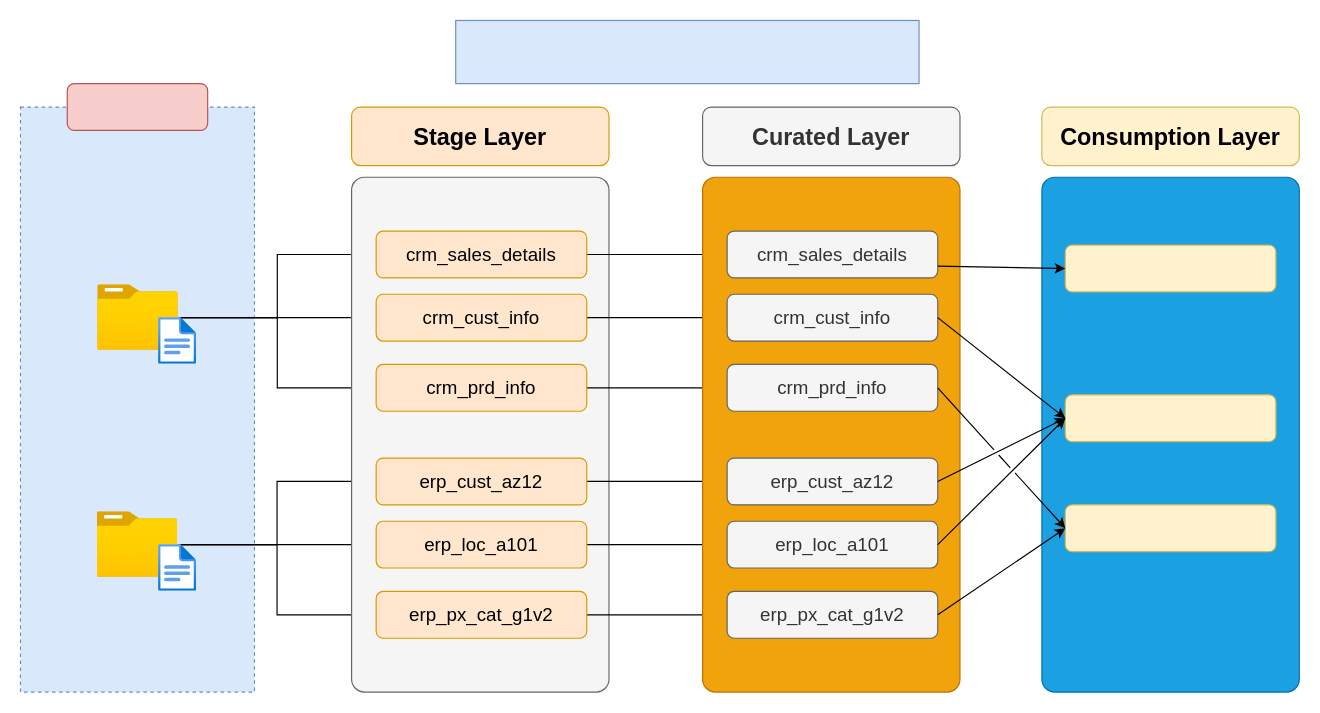
This 1320x713 diagram has some shape labels left out. Here are the shapes that lost their labels. From the top down, the box of each, then its label:
(455, 19, 919, 84): Data Flow (data Lineage)
(66, 82, 208, 130): Sources
(1064, 244, 1276, 292): fact_sales
(97, 284, 178, 350): CRM
(1064, 394, 1276, 442): dim_customers
(97, 511, 177, 577): ERP
(1064, 504, 1276, 552): dim_products
